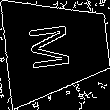M_E: (31, 22, 82, 74)
